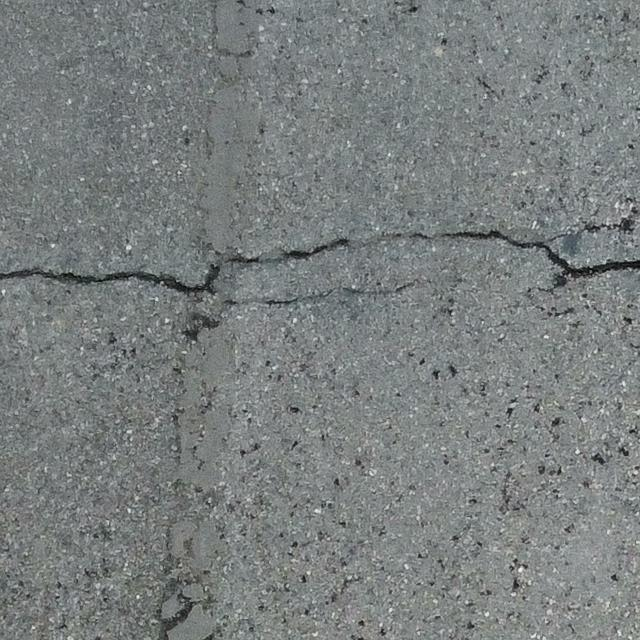TransverseCrack: (1, 227, 640, 297)
